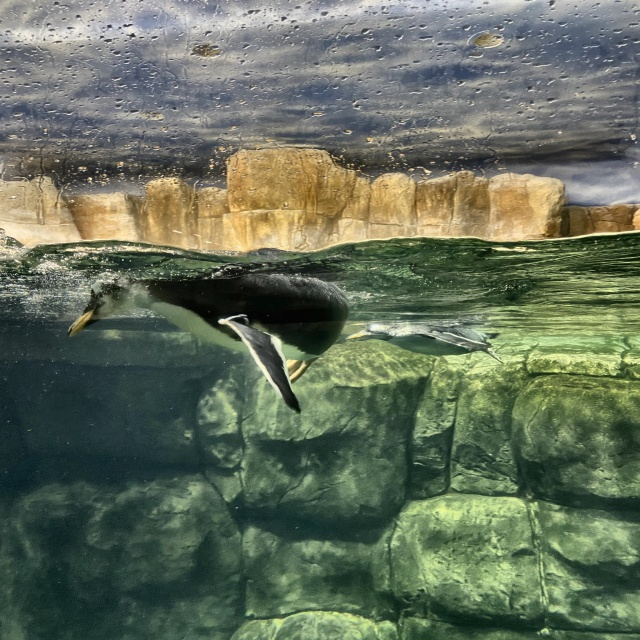penguin: (68, 254, 352, 377), (350, 318, 505, 358)
